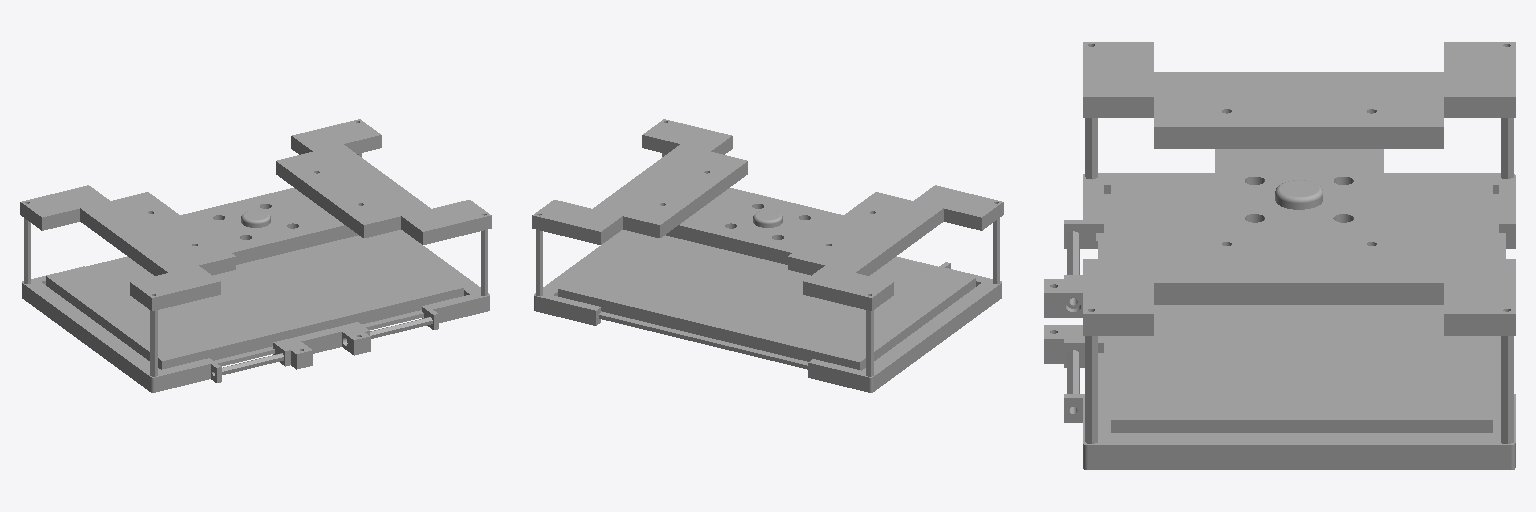
robot.urdf — ur3e:
<?xml version="1.0" ?>
<!-- =================================================================================== -->
<!-- |    This document was autogenerated by xacro from festival_ur_description.urdf.xacro                  | -->
<!-- |    EDITING THIS FILE BY HAND IS NOT RECOMMENDED                                 | -->
<!-- =================================================================================== -->
<robot name="ur3e"
  xmlns:xacro="http://ros.org/wiki/xacro">
  <!-- links -  main serial chain -->
  <link name="ur3ebase_link"/>
  <link name="ur3ebase_link_inertia">
    <visual>
      <origin rpy="0 0 3.141592653589793" xyz="0 0 0"/>
      <geometry>
        <mesh filename="package://festival_ur_description/meshes/ur3e/visual/base.dae"/>
      </geometry>
      <material name="LightGrey">
        <color rgba="0.7 0.7 0.7 1.0"/>
      </material>
    </visual>
    <collision>
      <origin rpy="0 0 3.141592653589793" xyz="0 0 0"/>
      <geometry>
        <mesh filename="package://festival_ur_description/meshes/ur3e/collision/base.stl"/>
      </geometry>
    </collision>
    <inertial>
      <mass value="2.0"/>
      <origin rpy="0 0 0" xyz="0 0 0"/>
      <inertia ixx="0.0030531654454" ixy="0.0" ixz="0.0" iyy="0.0030531654454" iyz="0.0" izz="0.005625"/>
    </inertial>
  </link>
  <link name="ur3eshoulder_link">
    <visual>
      <origin rpy="0 0 3.141592653589793" xyz="0 0 0"/>
      <geometry>
        <mesh filename="package://festival_ur_description/meshes/ur3e/visual/shoulder.dae"/>
      </geometry>
      <material name="LightGrey">
        <color rgba="0.7 0.7 0.7 1.0"/>
      </material>
    </visual>
    <collision>
      <origin rpy="0 0 3.141592653589793" xyz="0 0 0"/>
      <geometry>
        <mesh filename="package://festival_ur_description/meshes/ur3e/collision/shoulder.stl"/>
      </geometry>
    </collision>
    <inertial>
      <mass value="2.0"/>
      <origin rpy="0 0 0" xyz="0 0 0"/>
      <inertia ixx="0.008093163429399999" ixy="0.0" ixz="0.0" iyy="0.008093163429399999" iyz="0.0" izz="0.005625"/>
    </inertial>
  </link>
  <link name="ur3eupper_arm_link">
    <visual>
      <origin rpy="1.5707963267948966 0 -1.5707963267948966" xyz="0 0 0.12"/>
      <geometry>
        <mesh filename="package://festival_ur_description/meshes/ur3e/visual/upperarm.dae"/>
      </geometry>
      <material name="LightGrey">
        <color rgba="0.7 0.7 0.7 1.0"/>
      </material>
    </visual>
    <collision>
      <origin rpy="1.5707963267948966 0 -1.5707963267948966" xyz="0 0 0.12"/>
      <geometry>
        <mesh filename="package://festival_ur_description/meshes/ur3e/collision/upperarm.stl"/>
      </geometry>
    </collision>
    <inertial>
      <mass value="3.42"/>
      <origin rpy="0 1.5707963267948966 0" xyz="-0.121825 0.0 0.12"/>
      <inertia ixx="0.021728483221103233" ixy="0.0" ixz="0.0" iyy="0.021728483221103233" iyz="0.0" izz="0.00961875"/>
    </inertial>
  </link>
  <link name="ur3eforearm_link">
    <visual>
      <origin rpy="1.5707963267948966 0 -1.5707963267948966" xyz="0 0 0.027"/>
      <geometry>
        <mesh filename="package://festival_ur_description/meshes/ur3e/visual/forearm.dae"/>
      </geometry>
      <material name="LightGrey">
        <color rgba="0.7 0.7 0.7 1.0"/>
      </material>
    </visual>
    <collision>
      <origin rpy="1.5707963267948966 0 -1.5707963267948966" xyz="0 0 0.027"/>
      <geometry>
        <mesh filename="package://festival_ur_description/meshes/ur3e/collision/forearm.stl"/>
      </geometry>
    </collision>
    <inertial>
      <mass value="1.26"/>
      <origin rpy="0 1.5707963267948966 0" xyz="-0.1066 0.0 0.027"/>
      <inertia ixx="0.0065445675821719194" ixy="0.0" ixz="0.0" iyy="0.0065445675821719194" iyz="0.0" izz="0.00354375"/>
    </inertial>
  </link>
  <link name="ur3ewrist_1_link">
    <visual>
      <origin rpy="1.5707963267948966 0 0" xyz="0 0 -0.104"/>
      <geometry>
        <mesh filename="package://festival_ur_description/meshes/ur3e/visual/wrist1.dae"/>
      </geometry>
      <material name="LightGrey">
        <color rgba="0.7 0.7 0.7 1.0"/>
      </material>
    </visual>
    <collision>
      <origin rpy="1.5707963267948966 0 0" xyz="0 0 -0.104"/>
      <geometry>
        <mesh filename="package://festival_ur_description/meshes/ur3e/collision/wrist1.stl"/>
      </geometry>
    </collision>
    <inertial>
      <mass value="0.8"/>
      <origin rpy="0 0 0" xyz="0 0 0"/>
      <inertia ixx="0.002084999166" ixy="0.0" ixz="0.0" iyy="0.002084999166" iyz="0.0" izz="0.00225"/>
    </inertial>
  </link>
  <link name="ur3ewrist_2_link">
    <visual>
      <origin rpy="0 0 0" xyz="0 0 -0.08535"/>
      <geometry>
        <mesh filename="package://festival_ur_description/meshes/ur3e/visual/wrist2.dae"/>
      </geometry>
      <material name="LightGrey">
        <color rgba="0.7 0.7 0.7 1.0"/>
      </material>
    </visual>
    <collision>
      <origin rpy="0 0 0" xyz="0 0 -0.08535"/>
      <geometry>
        <mesh filename="package://festival_ur_description/meshes/ur3e/collision/wrist2.stl"/>
      </geometry>
    </collision>
    <inertial>
      <mass value="0.8"/>
      <origin rpy="0 0 0" xyz="0 0 0"/>
      <inertia ixx="0.002084999166" ixy="0.0" ixz="0.0" iyy="0.002084999166" iyz="0.0" izz="0.00225"/>
    </inertial>
  </link>
  <link name="ur3ewrist_3_link">
    <visual>
      <origin rpy="1.5707963267948966 0 0" xyz="0 0 -0.0921"/>
      <geometry>
        <mesh filename="package://festival_ur_description/meshes/ur3e/visual/wrist3.dae"/>
      </geometry>
      <material name="LightGrey">
        <color rgba="0.7 0.7 0.7 1.0"/>
      </material>
    </visual>
    <collision>
      <origin rpy="1.5707963267948966 0 0" xyz="0 0 -0.0921"/>
      <geometry>
        <mesh filename="package://festival_ur_description/meshes/ur3e/collision/wrist3.stl"/>
      </geometry>
    </collision>
    <inertial>
      <mass value="0.35"/>
      <origin rpy="0 0 0" xyz="0.0 0.0 -0.02"/>
      <inertia ixx="0.00013626661215999998" ixy="0.0" ixz="0.0" iyy="0.00013626661215999998" iyz="0.0" izz="0.0001792"/>
    </inertial>
  </link>
  <!-- joints - main serial chain -->
  <joint name="ur3ebase_link-base_link_inertia" type="fixed">
    <parent link="ur3ebase_link"/>
    <child link="ur3ebase_link_inertia"/>
    <!-- 'base_link' is REP-103 aligned (so X+ forward), while the internal
           frames of the robot/controller have X+ pointing backwards.
           Use the joint between 'base_link' and 'base_link_inertia' (a dummy
           link/frame) to introduce the necessary rotation over Z (of pi rad).
      -->
    <origin rpy="0 0 3.141592653589793" xyz="0 0 0"/>
  </joint>
  <joint name="ur3eshoulder_pan_joint" type="revolute">
    <parent link="ur3ebase_link_inertia"/>
    <child link="ur3eshoulder_link"/>
    <origin rpy="0 0 0" xyz="0 0 0.15185"/>
    <axis xyz="0 0 1"/>
    <limit effort="56.0" lower="-6.283185307179586" upper="6.283185307179586" velocity="3.141592653589793"/>
    <dynamics damping="0" friction="0"/>
  </joint>
  <joint name="ur3eshoulder_lift_joint" type="revolute">
    <parent link="ur3eshoulder_link"/>
    <child link="ur3eupper_arm_link"/>
    <origin rpy="1.570796327 0 0" xyz="0 0 0"/>
    <axis xyz="0 0 1"/>
    <limit effort="56.0" lower="-6.283185307179586" upper="6.283185307179586" velocity="3.141592653589793"/>
    <dynamics damping="0" friction="0"/>
  </joint>
  <joint name="ur3eelbow_joint" type="revolute">
    <parent link="ur3eupper_arm_link"/>
    <child link="ur3eforearm_link"/>
    <origin rpy="0 0 0" xyz="-0.24355 0 0"/>
    <axis xyz="0 0 1"/>
    <limit effort="28.0" lower="-3.141592653589793" upper="3.141592653589793" velocity="3.141592653589793"/>
    <dynamics damping="0" friction="0"/>
  </joint>
  <joint name="ur3ewrist_1_joint" type="revolute">
    <parent link="ur3eforearm_link"/>
    <child link="ur3ewrist_1_link"/>
    <origin rpy="0 0 0" xyz="-0.2132 0 0.13105"/>
    <axis xyz="0 0 1"/>
    <limit effort="12.0" lower="-6.283185307179586" upper="6.283185307179586" velocity="6.283185307179586"/>
    <dynamics damping="0" friction="0"/>
  </joint>
  <joint name="ur3ewrist_2_joint" type="revolute">
    <parent link="ur3ewrist_1_link"/>
    <child link="ur3ewrist_2_link"/>
    <origin rpy="1.570796327 0 0" xyz="0 -0.08535 -1.750557762378351e-11"/>
    <axis xyz="0 0 1"/>
    <limit effort="12.0" lower="-6.283185307179586" upper="6.283185307179586" velocity="6.283185307179586"/>
    <dynamics damping="0" friction="0"/>
  </joint>
  <joint name="ur3ewrist_3_joint" type="revolute">
    <parent link="ur3ewrist_2_link"/>
    <child link="ur3ewrist_3_link"/>
    <origin rpy="1.570796326589793 3.141592653589793 3.141592653589793" xyz="0 0.0921 -1.8890025766262e-11"/>
    <axis xyz="0 0 1"/>
    <limit effort="12.0" lower="-6.283185307179586" upper="6.283185307179586" velocity="6.283185307179586"/>
    <dynamics damping="0" friction="0"/>
  </joint>
  <!-- ROS-Industrial 'base' frame - base_link to UR 'Base' Coordinates transform -->
  <link name="ur3ebase"/>
  <joint name="ur3ebase_link-base_fixed_joint" type="fixed">
    <!-- Note the rotation over Z of pi radians - as base_link is REP-103
           aligned (i.e., has X+ forward, Y+ left and Z+ up), this is needed
           to correctly align 'base' with the 'Base' coordinate system of
           the UR controller.
      -->
    <origin rpy="0 0 3.141592653589793" xyz="0 0 0"/>
    <parent link="ur3ebase_link"/>
    <child link="ur3ebase"/>
  </joint>
  <!-- ROS-Industrial 'flange' frame - attachment point for EEF models -->
  <link name="ur3eflange"/>
  <joint name="ur3ewrist_3-flange" type="fixed">
    <parent link="ur3ewrist_3_link"/>
    <child link="ur3eflange"/>
    <origin rpy="0 -1.5707963267948966 -1.5707963267948966" xyz="0 0 0"/>
  </joint>
  <!-- ROS-Industrial 'tool0' frame - all-zeros tool frame -->
  <link name="ur3etool0"/>
  <joint name="ur3eflange-tool0" type="fixed">
    <!-- default toolframe - X+ left, Y+ up, Z+ front -->
    <origin rpy="1.5707963267948966 0 1.5707963267948966" xyz="0 0 0"/>
    <parent link="ur3eflange"/>
    <child link="ur3etool0"/>
  </joint>
  <link name="display">
    <visual>
      <origin rpy="0 3.141592653589793 1.5707963267948966" xyz="0.054 0 0.0"/>
      <geometry>
        <mesh filename="package://festival_ur_description/meshes/ur3e/visual/display.stl" scale="0.001 0.001 0.001"/>
      </geometry>
      <material name="LightGrey">
        <color rgba="0.7 0.7 0.7 1.0"/>
      </material>
    </visual>
    <collision>
      <origin rpy="0 0 0" xyz="0.03075 0 0.0"/>
      <geometry>
        <box size="0.0615 0.2665 0.179"/>
      </geometry>
    </collision>
    <inertial>
      <mass value="1.0"/>
      <origin rpy="0 0 0" xyz="0.0 0.0 -0.02"/>
      <inertia ixx="0.00013626661215999998" ixy="0.0" ixz="0.0" iyy="0.00013626661215999998" iyz="0.0" izz="0.0001792"/>
    </inertial>
  </link>
  <joint name="display_joint" type="fixed">
    <!-- default toolframe - X+ left, Y+ up, Z+ front -->
    <origin rpy="0 0 0" xyz="0.0 0 0.0"/>
    <parent link="ur3eflange"/>
    <child link="display"/>
  </joint>




  <joint name="camera_joint" type="fixed">
    <origin rpy="3.141592653589793 0 0" xyz="0.0575 0.0 -0.07165"/>
    <parent link="display"/>
    <child link="camera_bottom_screw_frame"/>
  </joint>

  <link name="camera_bottom_screw_frame"/>

  <joint name="camera_link_joint" type="fixed">
    <origin rpy="0 0 0" xyz="0.010600000000000002 0.0175 0.0125"/>
    <parent link="camera_bottom_screw_frame"/>
    <child link="camera_link"/>
  </joint>
  <link name="camera_link">
    <visual>
      <!-- the mesh origin is at front plate in between the two infrared camera axes -->
      <origin rpy="-1.5707963267948966 0 0" xyz="0.0043 -0.0175 0"/>
      <geometry>
        <mesh filename="package://festival_ur_description/meshes/sensors/d435.STL"/>
      </geometry>
      <material name="LightGrey">
        <color rgba="0.7 0.7 0.7 1.0"/>
      </material>
    </visual>
    <collision>
      <origin rpy="0 0 0" xyz="0.0120  -0.0175 0.0125"/>
      <geometry>
        <box size="0.02505 0.09 0.025"/>
      </geometry>
    </collision>
    <inertial>
      <!-- The following are not reliable values, and should not be used for modeling -->
      <mass value="0.072"/>
      <origin xyz="0 0 0"/>
      <inertia ixx="0.003881243" ixy="0.0" ixz="0.0" iyy="0.000498940" iyz="0.0" izz="0.003879257"/>
    </inertial>
  </link>
  <!-- camera depth joints and links -->
  <joint name="camera_depth_joint" type="fixed">
    <origin rpy="0 0 0" xyz="0 0 0"/>
    <parent link="camera_link"/>
    <child link="camera_depth_frame"/>
  </joint>
  <link name="camera_depth_frame"/>
  <joint name="camera_depth_optical_joint" type="fixed">
    <origin rpy="-1.5707963267948966 0 -1.5707963267948966" xyz="0 0 0"/>
    <parent link="camera_depth_frame"/>
    <child link="camera_depth_optical_frame"/>
  </joint>
  <link name="camera_depth_optical_frame"/>
  <!-- camera left IR joints and links -->
  <joint name="camera_infra1_joint" type="fixed">
    <origin rpy="0 0 0" xyz="0 0.0 0"/>
    <parent link="camera_link"/>
    <child link="camera_infra1_frame"/>
  </joint>
  <link name="camera_infra1_frame"/>
  <joint name="camera_infra1_optical_joint" type="fixed">
    <origin rpy="-1.5707963267948966 0 -1.5707963267948966" xyz="0 0 0"/>
    <parent link="camera_infra1_frame"/>
    <child link="camera_infra1_optical_frame"/>
  </joint>
  <link name="camera_infra1_optical_frame"/>
  <!-- camera right IR joints and links -->
  <joint name="camera_infra2_joint" type="fixed">
    <origin rpy="0 0 0" xyz="0 -0.05 0"/>
    <parent link="camera_link"/>
    <child link="camera_infra2_frame"/>
  </joint>
  <link name="camera_infra2_frame"/>
  <joint name="camera_infra2_optical_joint" type="fixed">
    <origin rpy="-1.5707963267948966 0 -1.5707963267948966" xyz="0 0 0"/>
    <parent link="camera_infra2_frame"/>
    <child link="camera_infra2_optical_frame"/>
  </joint>
  <link name="camera_infra2_optical_frame"/>
  <!-- camera color joints and links -->
  <joint name="camera_color_joint" type="fixed">
    <origin rpy="0 0 0" xyz="0 0.015 0"/>
    <parent link="camera_link"/>
    <child link="camera_color_frame"/>
  </joint>
  <link name="camera_color_frame"/>
  <joint name="camera_color_optical_joint" type="fixed">
    <origin rpy="-1.5707963267948966 0 -1.5707963267948966" xyz="0 0 0"/>
    <parent link="camera_color_frame"/>
    <child link="camera_color_optical_frame"/>
  </joint>
  <link name="camera_color_optical_frame"/>
</robot>

--- Facts derived from the render (not from the file) ---
Views: 3 orthographic renders of the robot side by side, from view 1: azimuth 30°, elevation 25°; view 2: azimuth 150°, elevation 25°; view 3: azimuth 270°, elevation 25°.
Robot: ur3e — 22 links, 21 joints (6 revolute, 15 fixed); root link ur3ebase_link; default pose: every joint at zero.
Visible links, largest first — view 1: display; view 2: display; view 3: display.
Boxes of the visible links, left/top/right/bottom form: display: left=20, top=119, right=491, bottom=392; display: left=532, top=119, right=1003, bottom=392; display: left=1044, top=42, right=1515, bottom=469.
Size in the robot's own frame: 0.2665 by 0.195 by 0.0715 metres.
1 mesh visuals loaded from 9 distinct referenced files (1 binary STL); not drawn: 8 (reference not matched to a file when rendering).